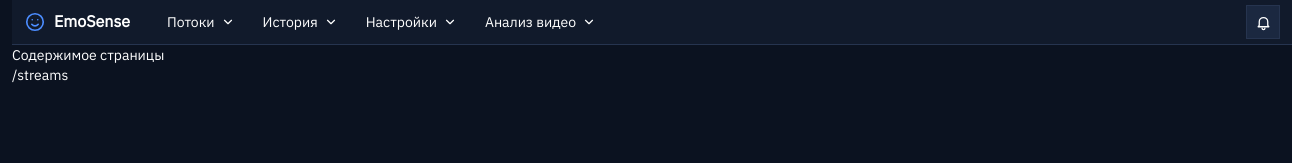
Test: Toolbar menus › closes on Esc
Click the button "Анализ видео" at (540, 22), box [472,4,609,40]
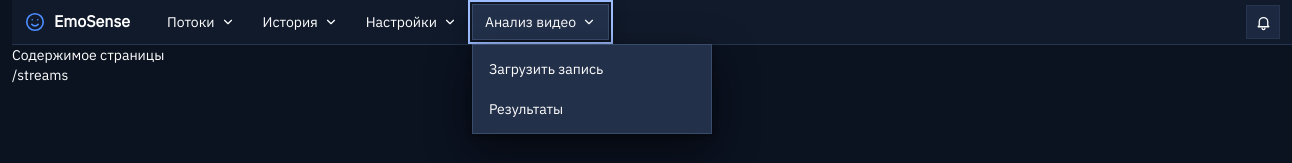
Expected: the menu is shown, [472,44,712,134]
Press Escape
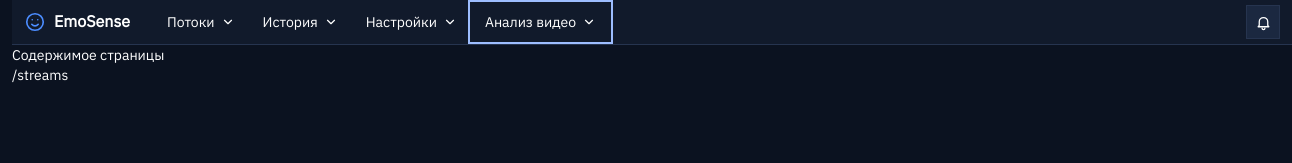
Expected: the menu is gone
